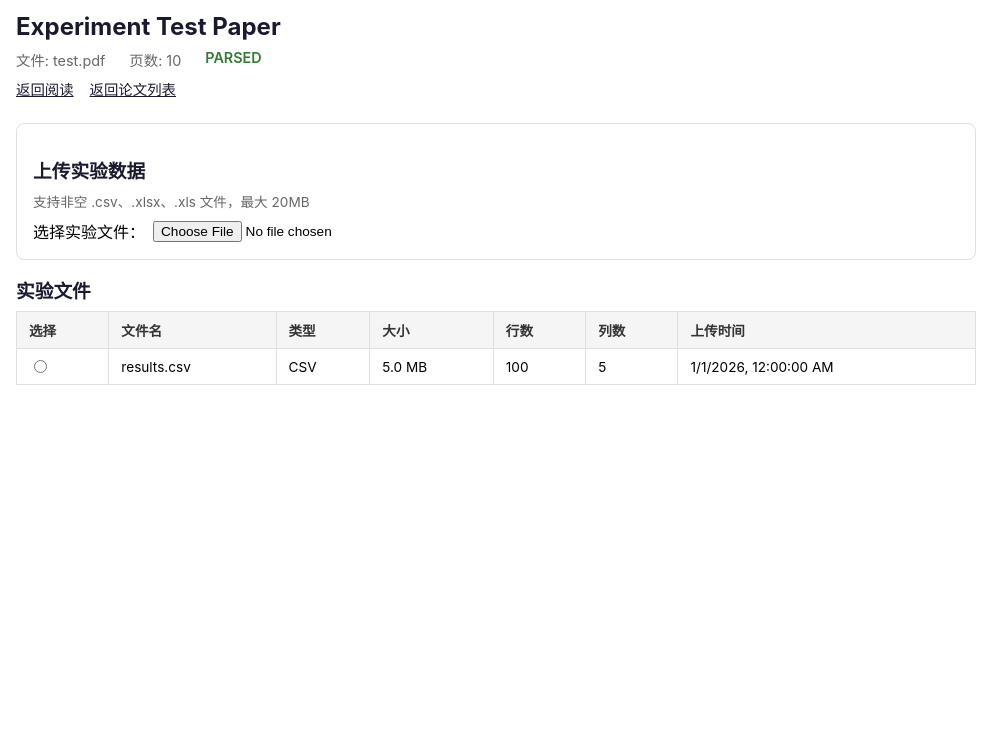
Test: ExperimentDataView › renders trusted column metadata from the file detail endpoint
Click the row with class "file-row": (496, 366) [16,348,976,384]
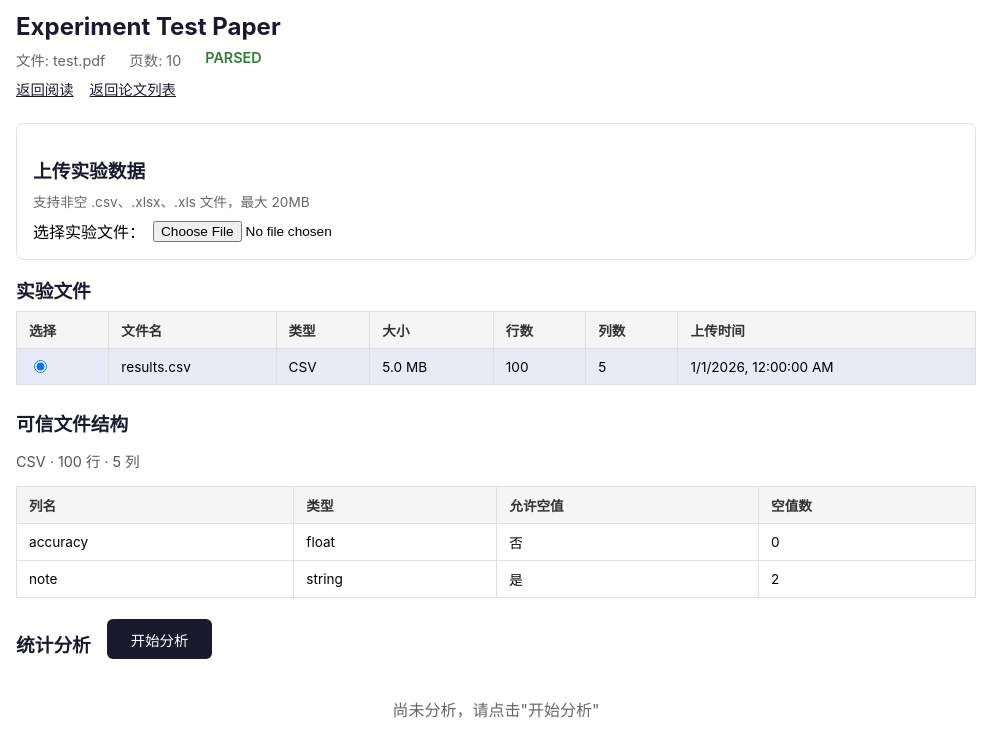
Now the row "accuracy float 否 0" is shown, box [16,523,976,560]
Now the row "note string 是 2" is shown, box [16,560,976,597]
